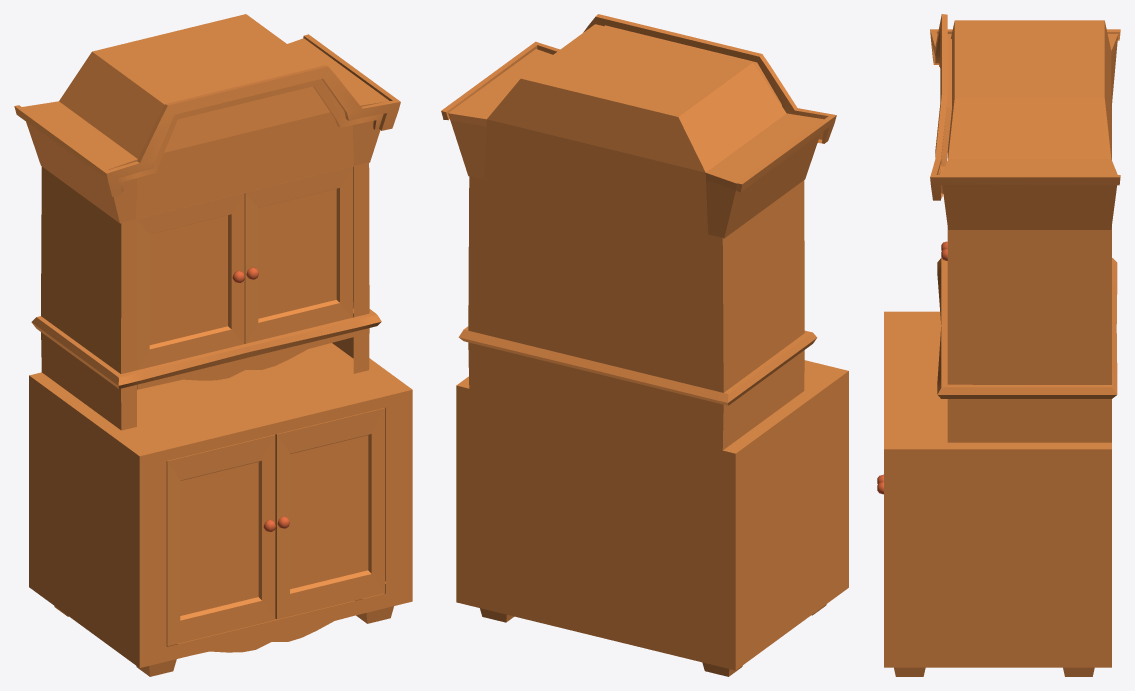
File: Cupboard.fbx
3 renders of one model, left to right at view 1: azimuth 30°, elevation 25°; view 2: azimuth 150°, elevation 25°; view 3: azimuth 270°, elevation 25°, orthographic. The views are drawn at different scales.
Visible parts, largest first — view 1: Cube.003, Cube.002, Cube.010, Cube.011, Cube.006, Cube.005, Plane, Plane.001; view 2: Cube.003, Cube.006, Cube.002, Cube.005; view 3: Cube.003, Cube.006, Cube.002, Cube.005.
Boxes of the visible parts, bbox=[...] form: Cube.003: bbox=[29, 267, 412, 676]; Cube.002: bbox=[22, 14, 389, 223]; Cube.010: bbox=[166, 408, 384, 646]; Cube.011: bbox=[136, 166, 353, 370]; Cube.006: bbox=[31, 162, 381, 430]; Cube.005: bbox=[14, 34, 400, 196]; Plane: bbox=[137, 332, 353, 389]; Plane.001: bbox=[197, 617, 347, 654]; Cube.003: bbox=[456, 360, 848, 676]; Cube.006: bbox=[458, 176, 817, 450]; Cube.002: bbox=[448, 24, 823, 238]; Cube.005: bbox=[441, 14, 836, 192]; Cube.003: bbox=[877, 241, 1111, 676]; Cube.006: bbox=[937, 107, 1117, 442]; Cube.002: bbox=[941, 20, 1118, 229]; Cube.005: bbox=[930, 14, 1120, 200].
Size of the model in its own units: 121 by 214 by 83.73.
